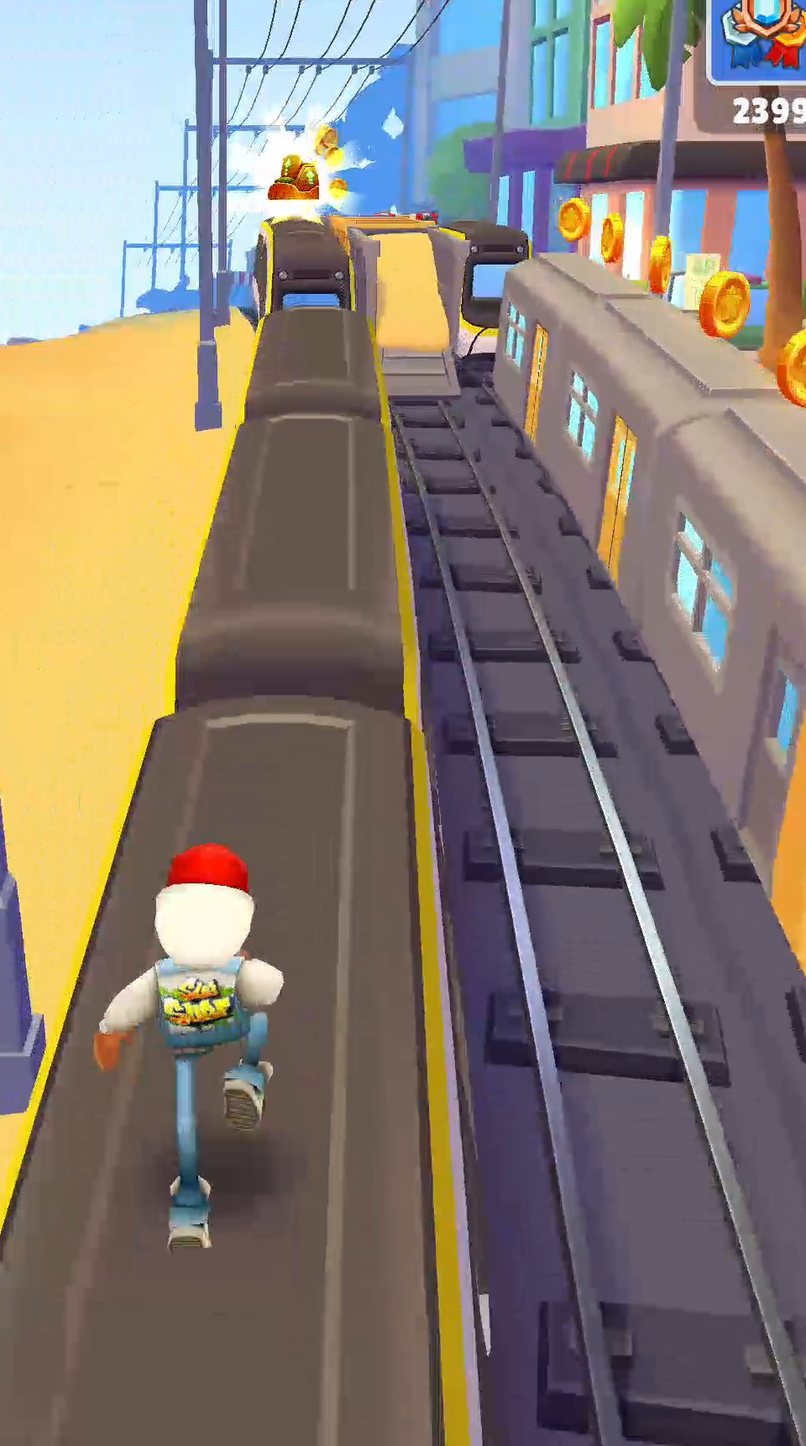climber: (375, 233, 458, 397)
train: (491, 254, 805, 961), (252, 217, 351, 320), (460, 223, 530, 348)
